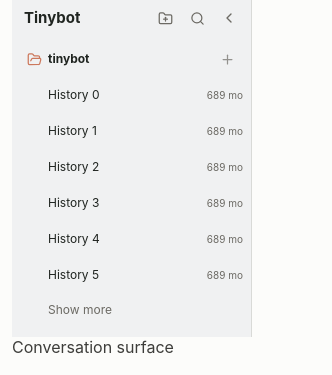
Test: ChatSessionWorkspace › reveals 7 workspace sessions in stages of six, twelve, then all
What coordinates should you click on to do the following:
click the button "Show more"
I would click on:
 (134, 309)
Its box is [20, 293, 249, 325].
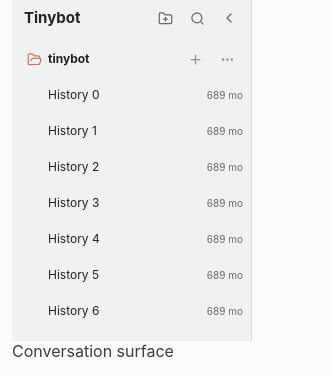
Check: the button "Show more" is gone
